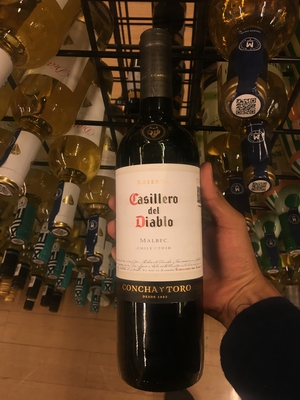casillero del diablo malbec: (105, 43, 217, 400)
